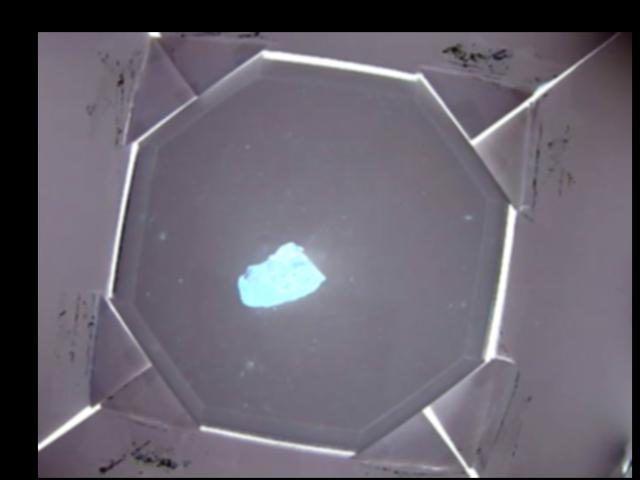Brisk: (238, 243, 327, 309)
